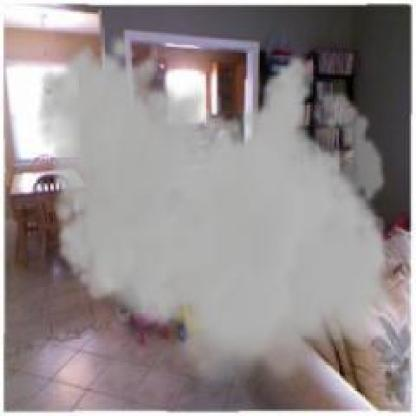Smoke: (35, 31, 398, 395)
